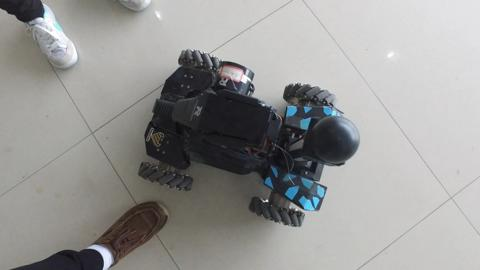chariot: (125, 46, 353, 214)
